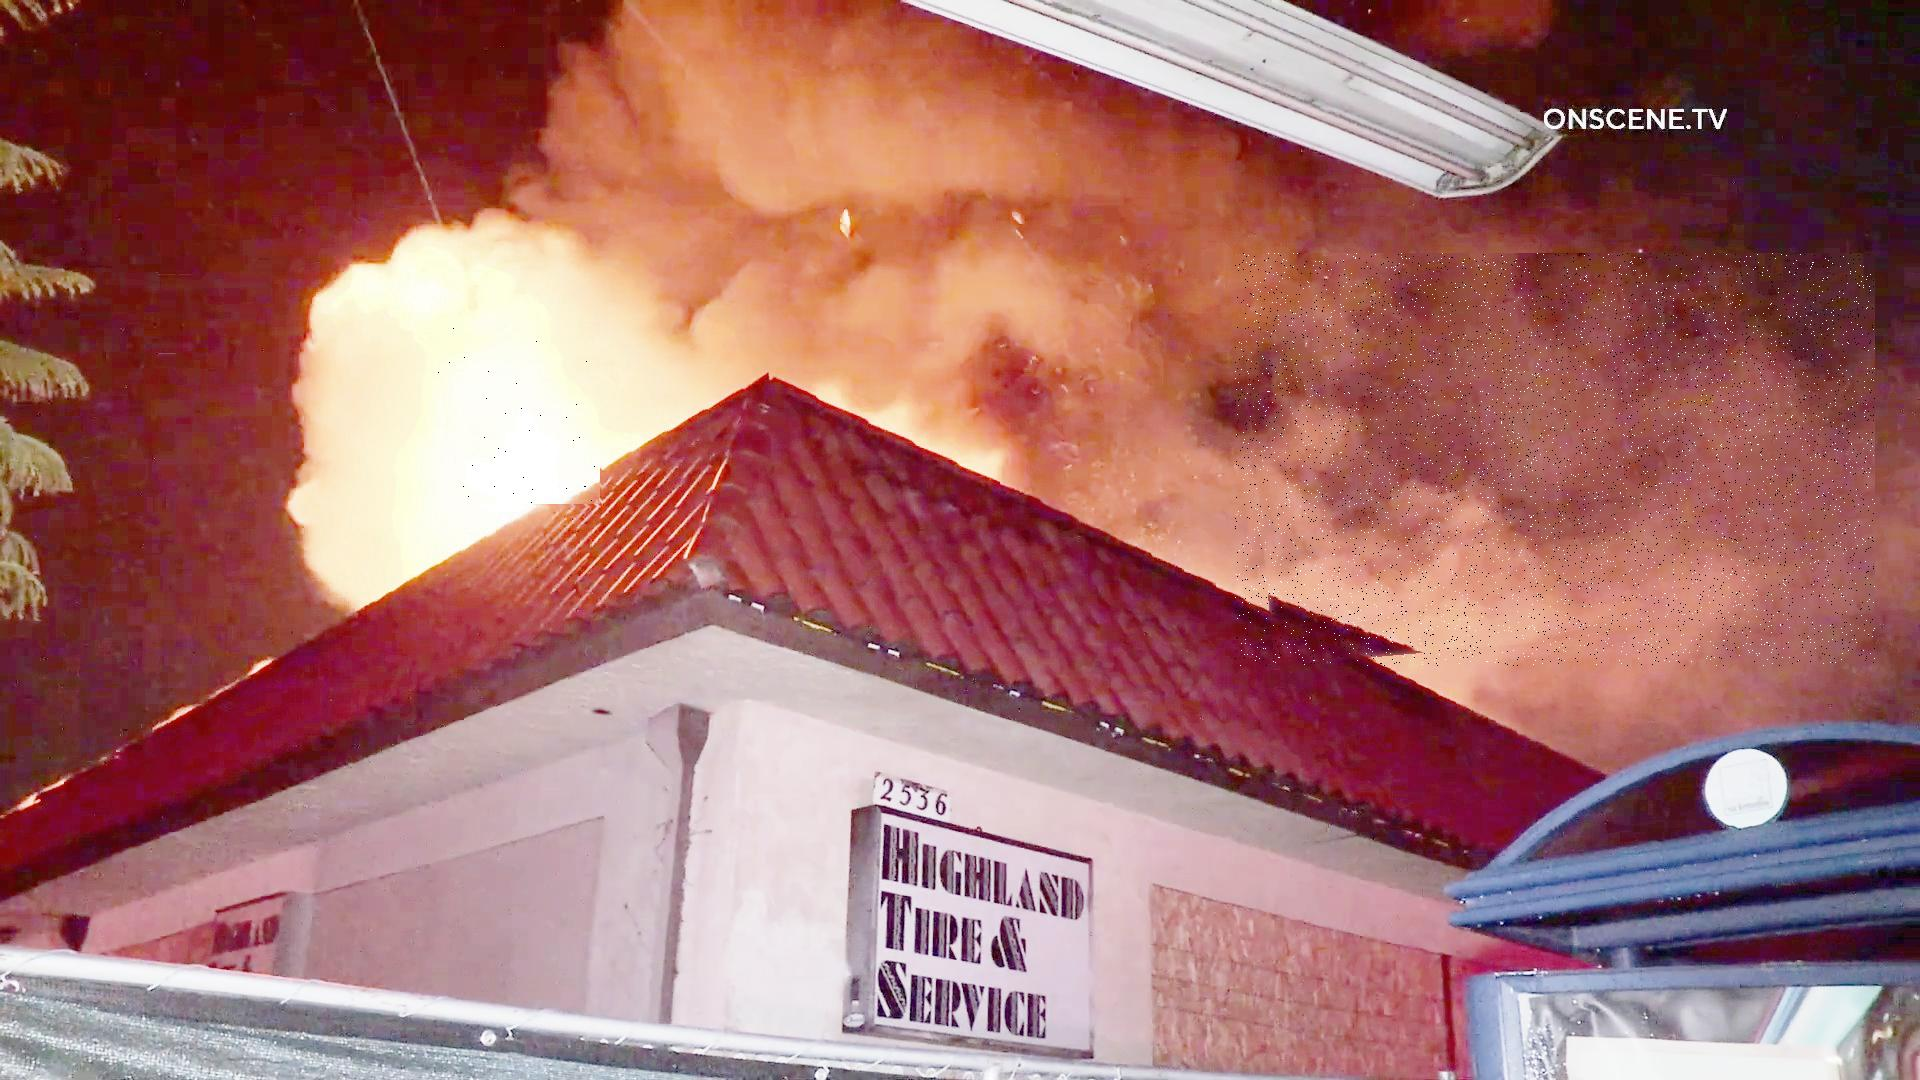fire: (435, 318, 603, 506)
smoke: (1236, 253, 1875, 666)
